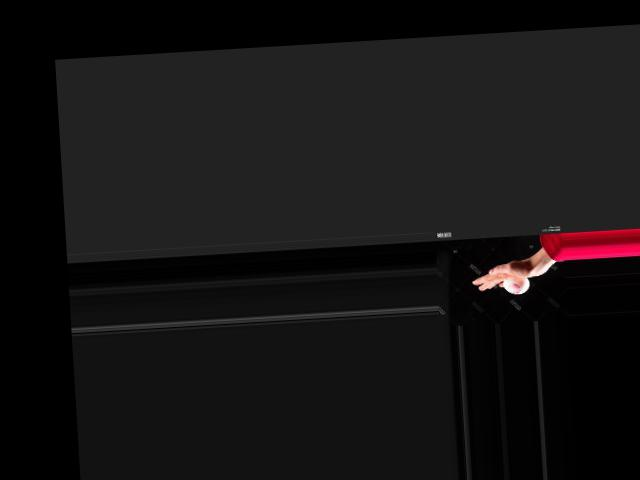egg: (504, 275, 530, 294)
